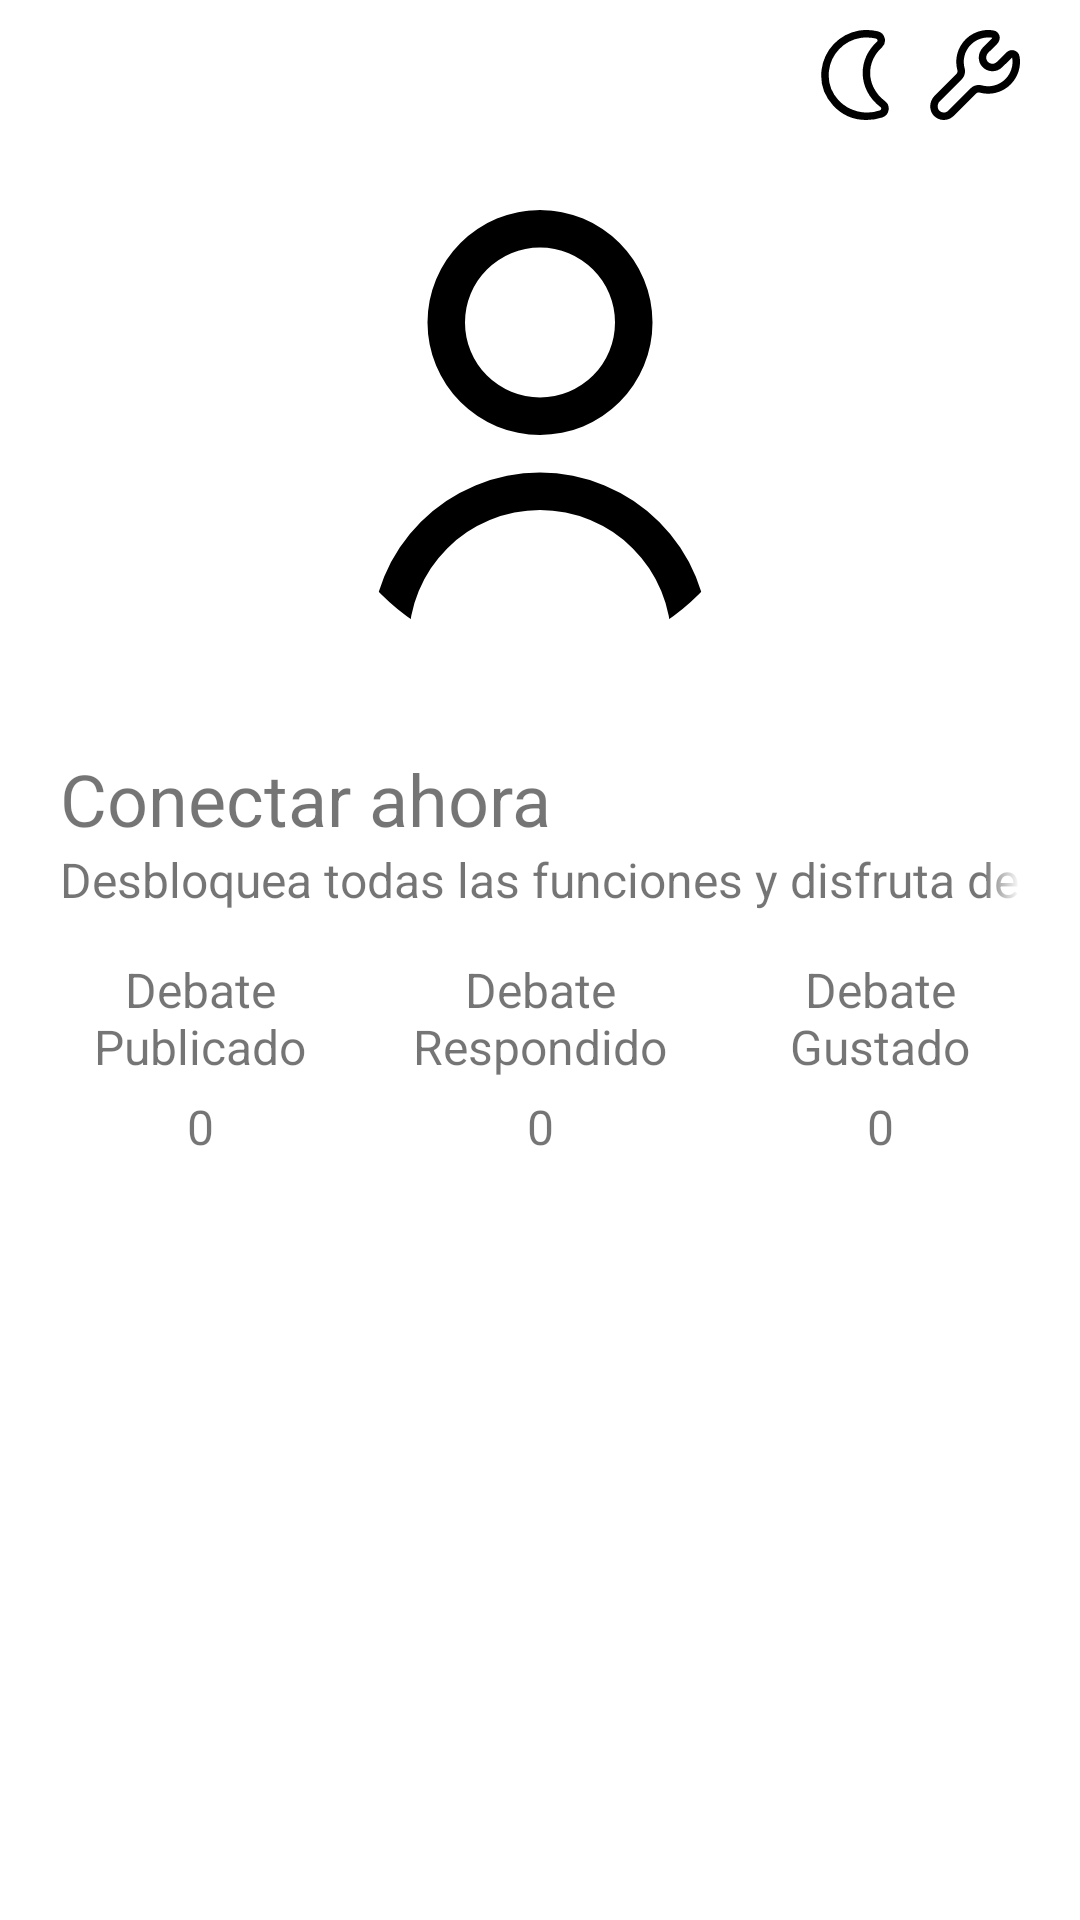

Named icons in this screenshot (1080px×1920px) and their centers, (x,y):
Ajuste: (975,75)
Tema: (855,75)
